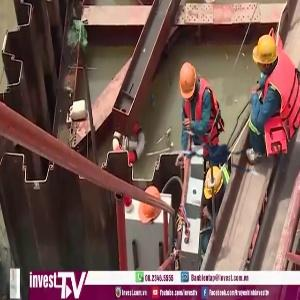drone: (168, 118, 260, 210)
